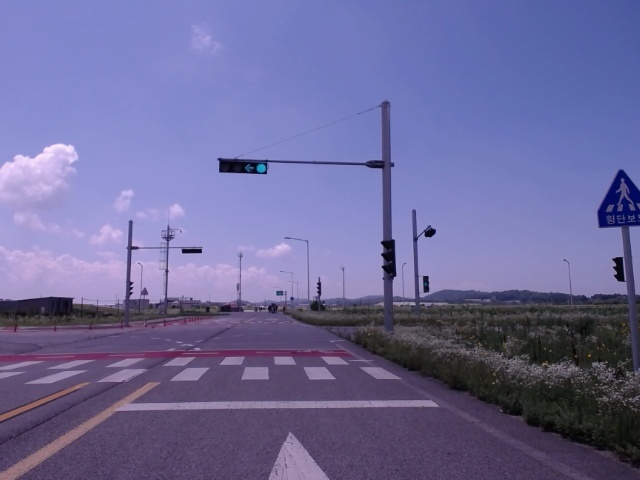all_green_4: (221, 158, 266, 174)
